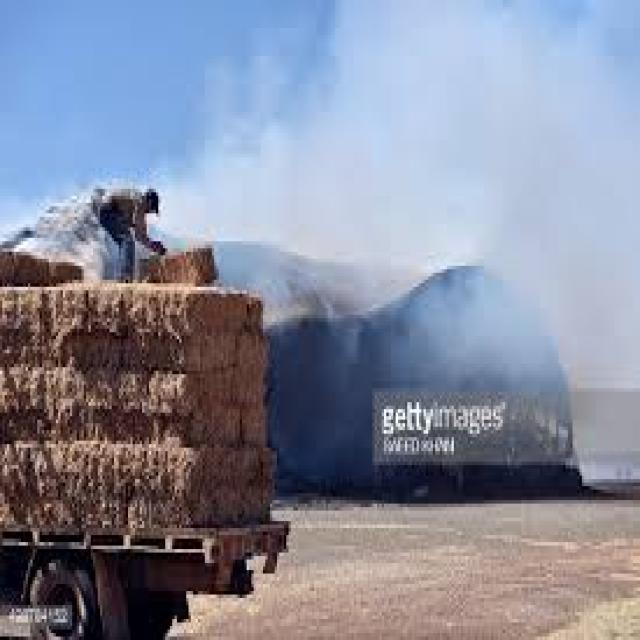Smoke: (418, 56, 608, 360)
